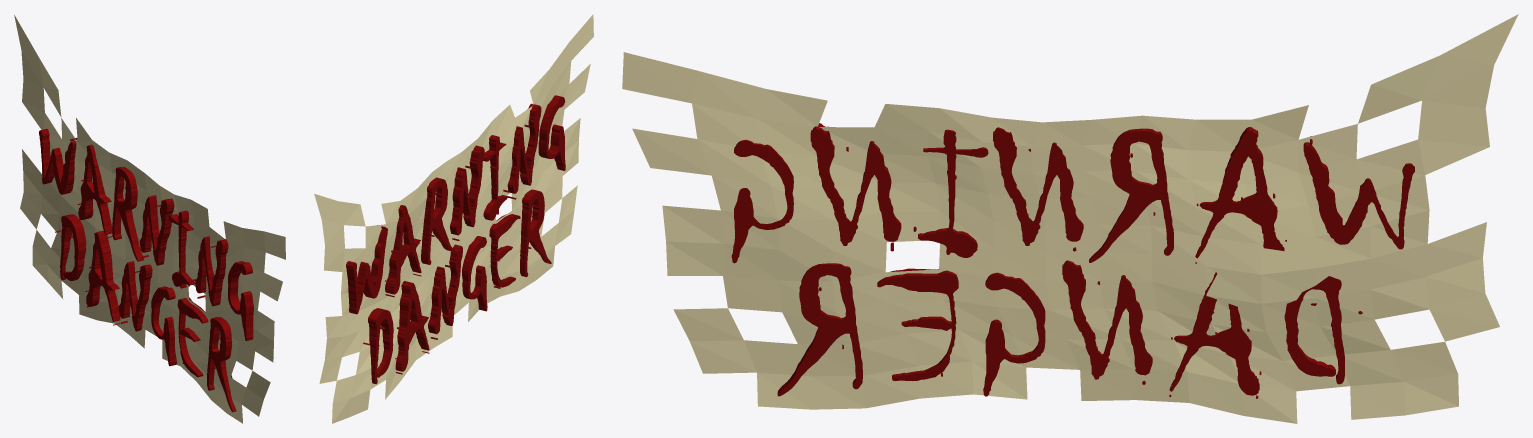
The model's file is 06 Hoarding.FBX.
3 renders of one model, left to right at view 1: azimuth 30°, elevation 25°; view 2: azimuth 150°, elevation 25°; view 3: azimuth 270°, elevation 25°, orthographic. The views are drawn at different scales.
Visible parts, largest first — view 1: Hoarding; view 2: Hoarding; view 3: Hoarding.
Part boxes in pixels (x1,y1,x2,y2): Hoarding: [14, 15, 285, 423]; Hoarding: [314, 14, 593, 423]; Hoarding: [622, 14, 1518, 423].
Bounding box in the file's own units: 20.31 × 509 × 1005.
